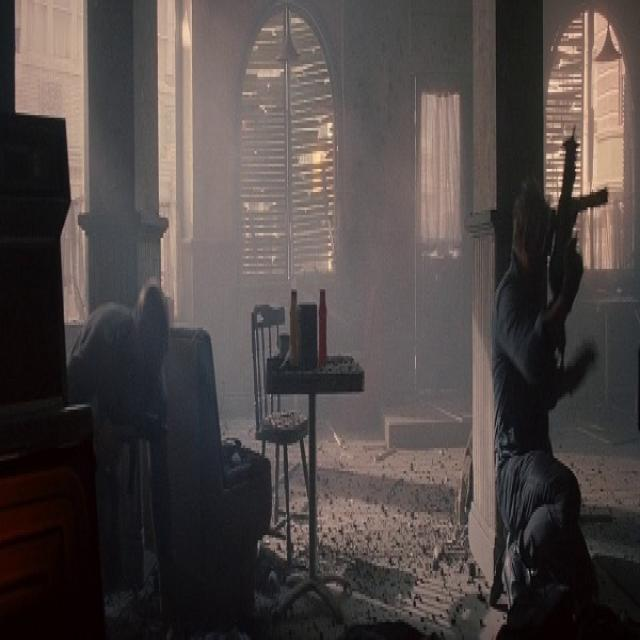rifle: (545, 117, 581, 360)
